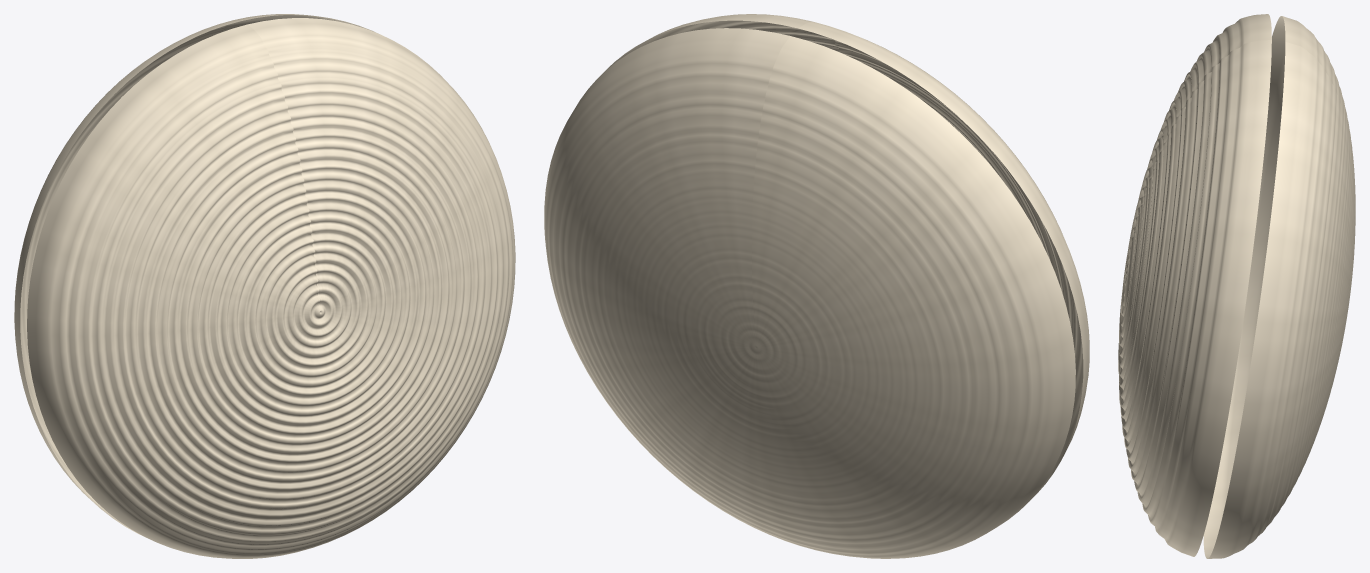
The model's file is clam.glb.
3 views of the same model, side by side, from view 1: azimuth 30°, elevation 25°; view 2: azimuth 150°, elevation 25°; view 3: azimuth 270°, elevation 25° (orthographic). The views are drawn at different scales.
Visible parts, largest first — view 1: clam; view 2: clam; view 3: clam.
Part boxes in pixels (x1=…): clam: x1=14, y1=14, x2=515, y2=558; clam: x1=544, y1=14, x2=1089, y2=558; clam: x1=1118, y1=14, x2=1355, y2=558.
Size of the model in its own units: 2.38 by 2.36 by 1.03.
